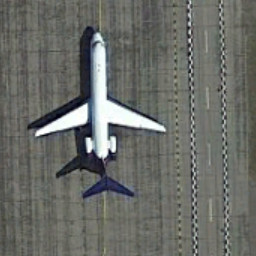Airplane: (24, 24, 174, 203)
